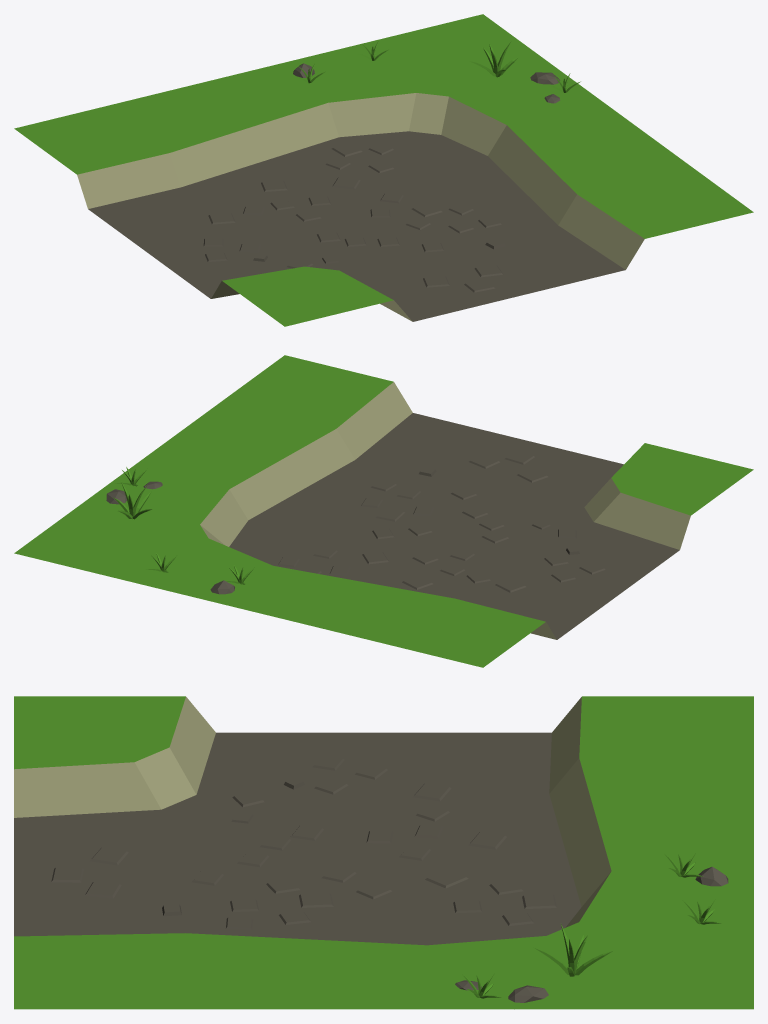
File: RoadCornerA.fbx
3 views of the same model, one above another, from view 1: azimuth 30°, elevation 25°; view 2: azimuth 150°, elevation 25°; view 3: azimuth 270°, elevation 25° (orthographic). The views are drawn at different scales.
Visible parts, largest first — view 1: RoadCornerA; view 2: RoadCornerA; view 3: RoadCornerA.
Part boxes in pixels (<box>): RoadCornerA: <box>14,14,753,326</box>; RoadCornerA: <box>14,355,753,667</box>; RoadCornerA: <box>14,696,753,1009</box>.
Bounding box in the file's own units: 500 × 62.11 × 500.
